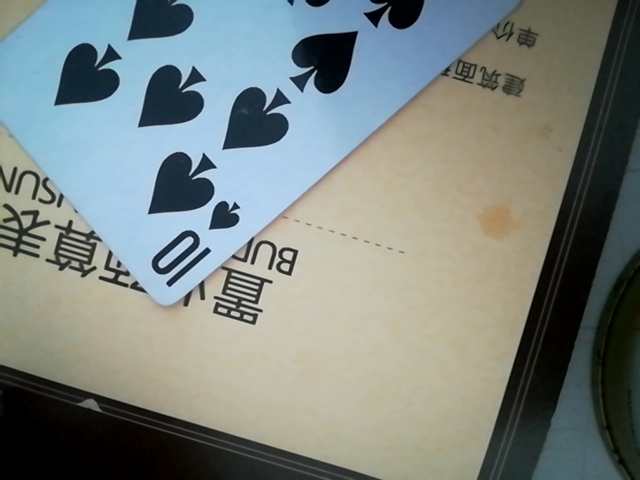ht 10: (0, 1, 527, 309)
